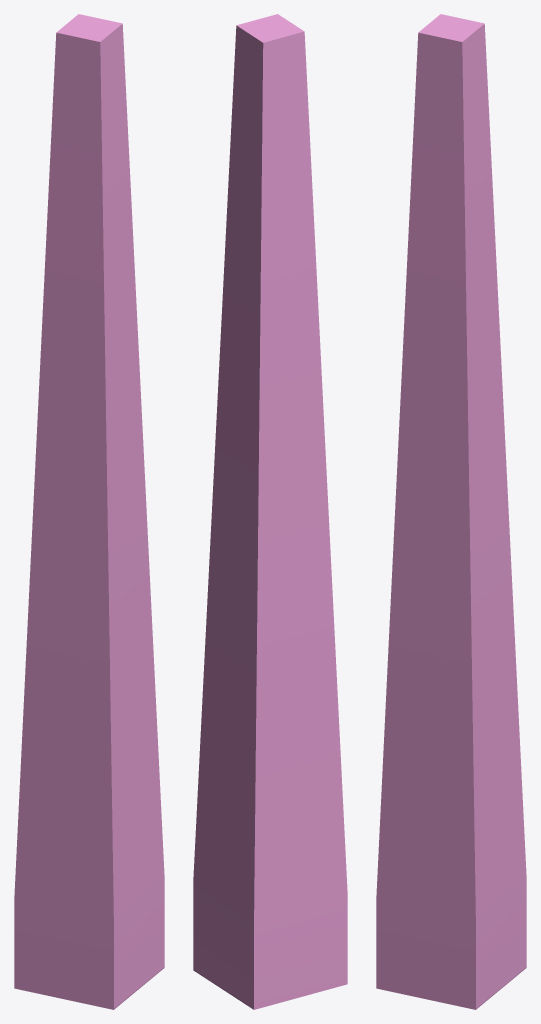
The model's file is Antenna.fbx.
3 views of the same model, side by side, from view 1: azimuth 90°, elevation 25°; view 2: azimuth 150°, elevation 25°; view 3: azimuth 270°, elevation 25° (orthographic).
Parts seen in each view (by area): view 1: Antenna_Baked; view 2: Antenna_Baked; view 3: Antenna_Baked.
Boxes of the visible parts, x1,y1,x2,y2 form: Antenna_Baked: [14, 14, 164, 1009]; Antenna_Baked: [193, 14, 347, 1009]; Antenna_Baked: [376, 14, 526, 1009].
Bounding box in the file's own units: 10.55 × 73.77 × 10.55.
Materials: 1 (1 with a texture image).
